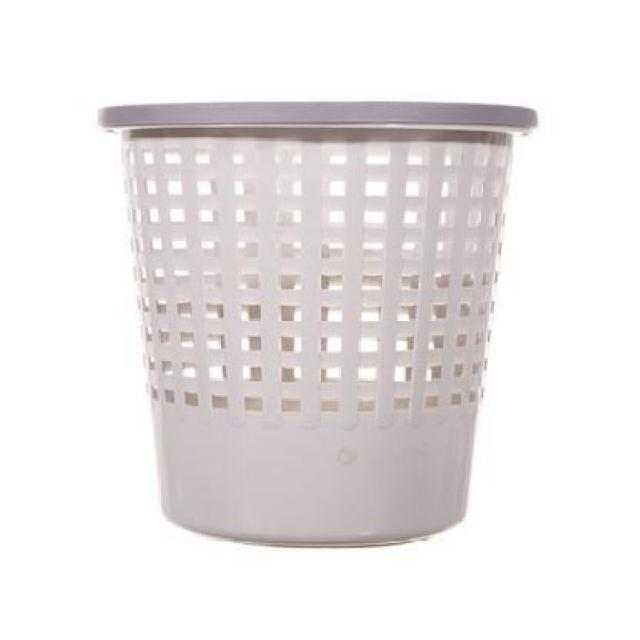dustbin: (92, 95, 542, 556)
